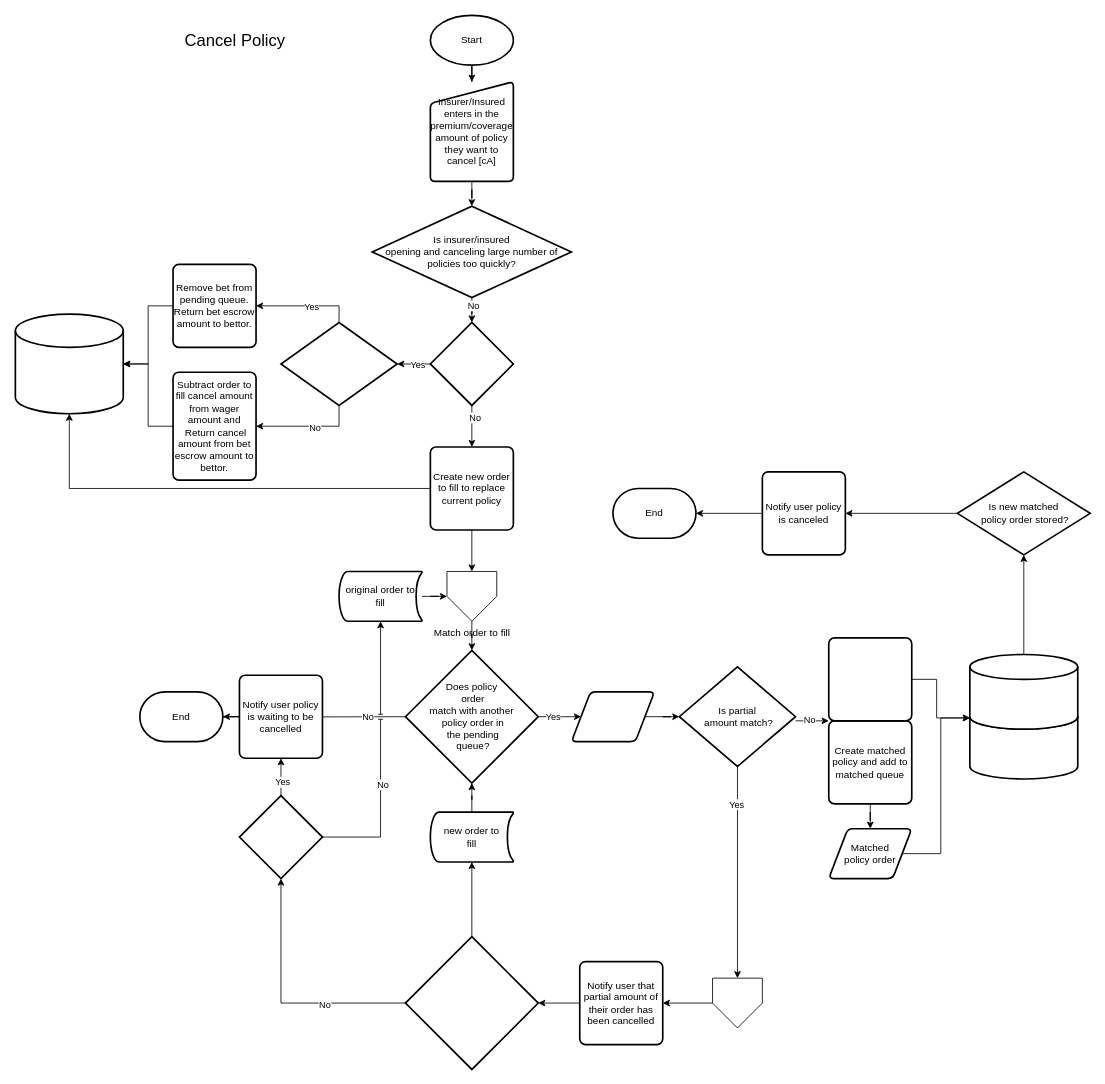
Some shapes in this 1105 by 1084 pixel diagram are drawn without their labels. Each missing label, with the box of its shape:
Does cancel amount equals wager amount?: (280, 321, 398, 406)
Has maximum cancel time passed?: (238, 794, 323, 879)
Is order in pending queue: (429, 321, 514, 406)
Matched Bet Order Queue: (969, 703, 1078, 779)
Matched order to fill: (570, 691, 655, 742)
Pending Bet Order Queue: (969, 653, 1078, 730)
Remove matched order to fill from pending queue: (828, 637, 912, 721)
Split order: (712, 977, 762, 1028)
User's account value, escrow value, and order to fill storage: (14, 313, 124, 414)
Was split successful?: (404, 935, 539, 1070)
